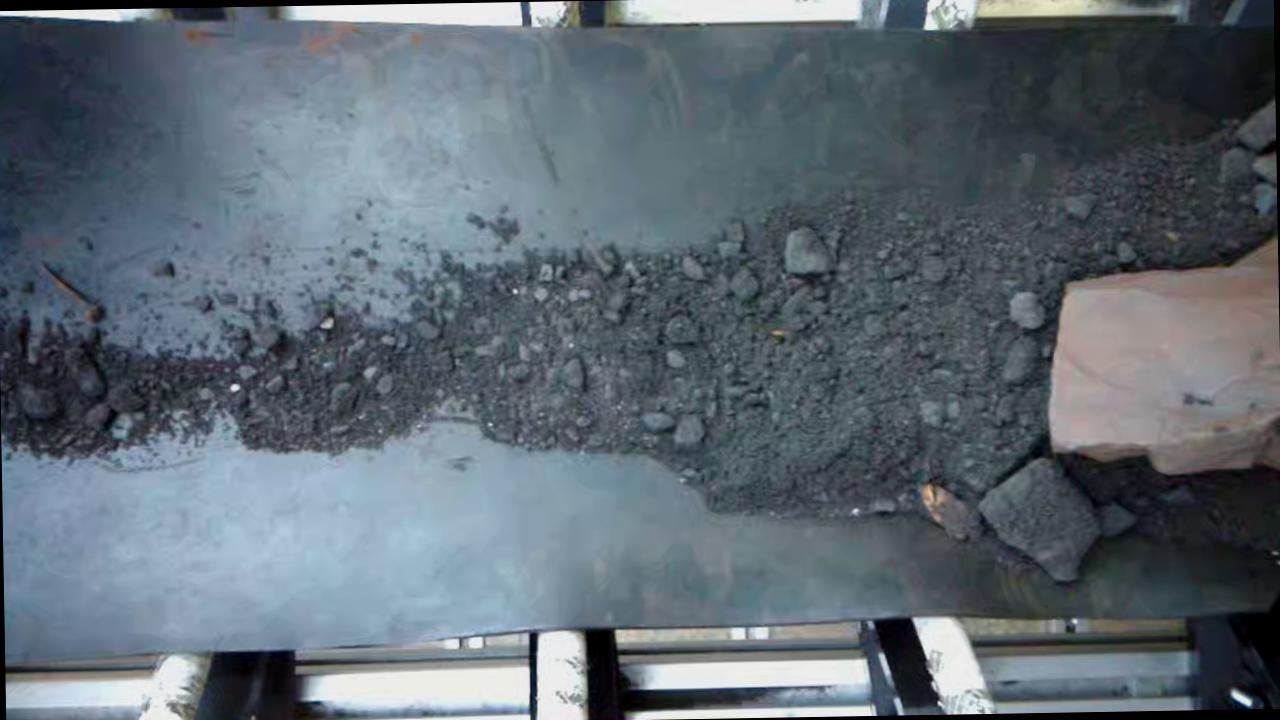conveyor: (7, 31, 1280, 626)
